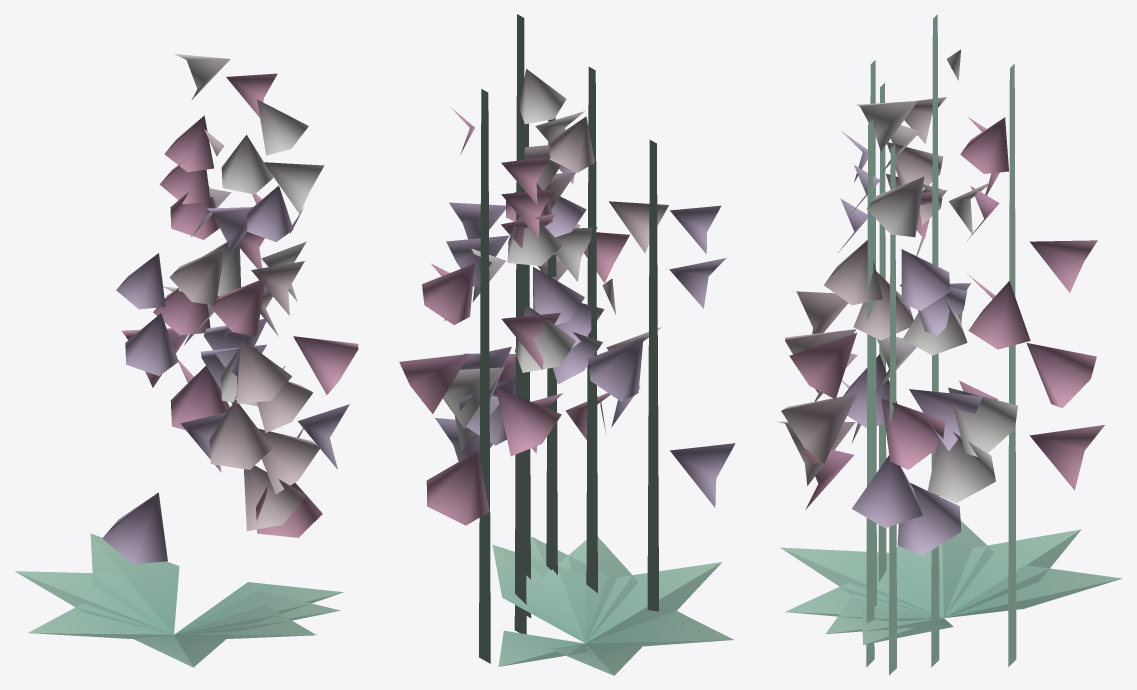
File: foxglove.glb
The picture shows the model from 3 angles, left to right: view 1: azimuth 30°, elevation 25°; view 2: azimuth 150°, elevation 25°; view 3: azimuth 270°, elevation 25°; orthographic projection. The views are drawn at different scales.
Parts seen in each view (by area): view 1: near, far; view 2: near, far; view 3: near, far.
Boxes of the visible parts, x1,y1,x2,y2 form: near: (14,54,349,667); far: (102,194,358,564); near: (399,14,733,675); far: (463,117,735,611); near: (776,14,1122,675); far: (789,83,970,667).
Size of the model in its own units: 0.6508 by 1.24 by 0.6037.
